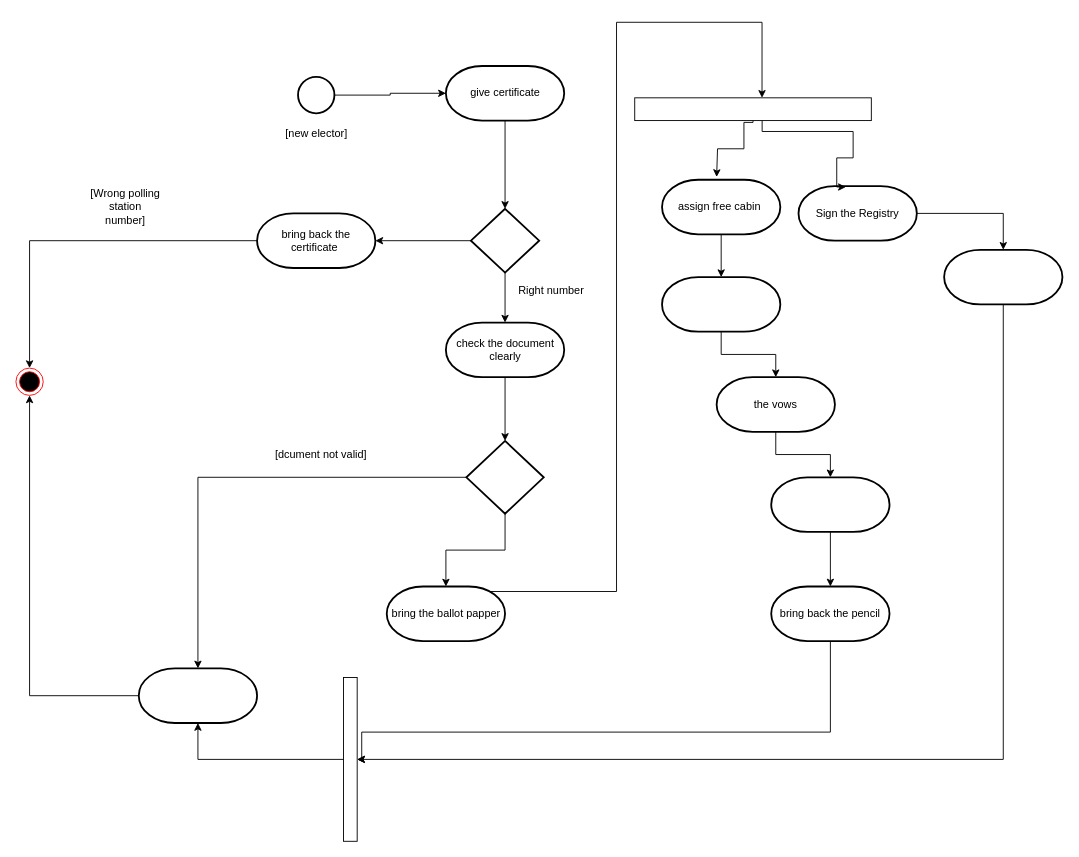
Image size: 1079x857. Some labels were removed from this diagram. The shapes that lost their labels are listed below. From the top down, each one's box as (x1, y1, x2, y2) in pixels, then its label:
(943, 248, 1063, 305): print them on the card
(661, 276, 781, 332): bring the pencil
(770, 476, 890, 532): Insert the Ballot Paper
(137, 667, 258, 723): give back the document
